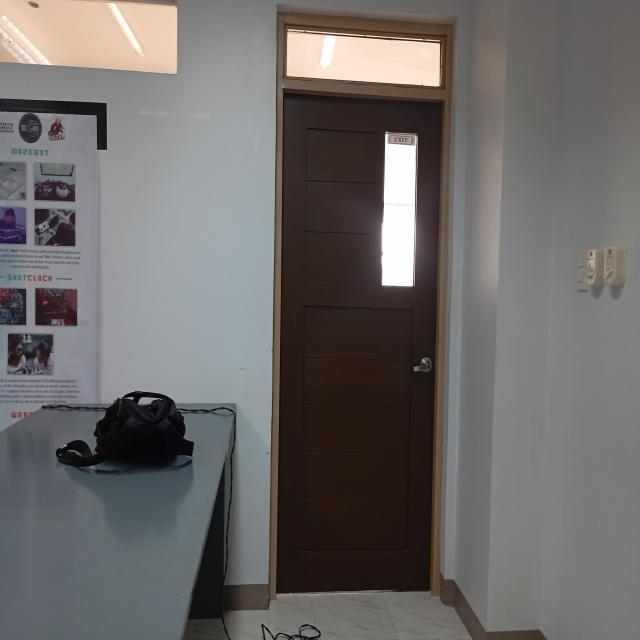door: (272, 0, 460, 619)
